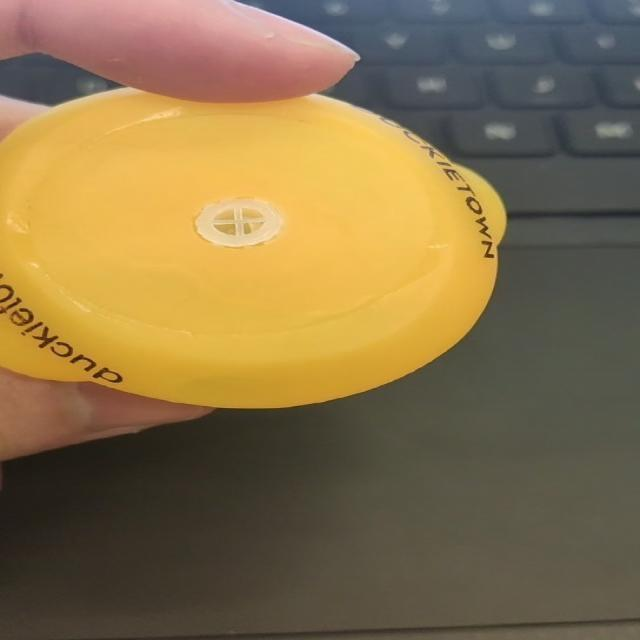rubber-duck: (0, 88, 504, 406)
